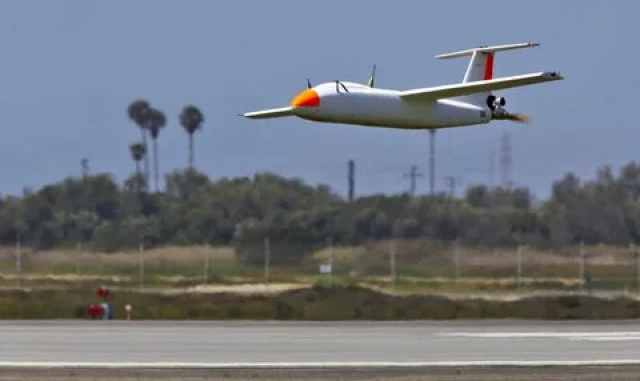military drone: (235, 42, 565, 129)
